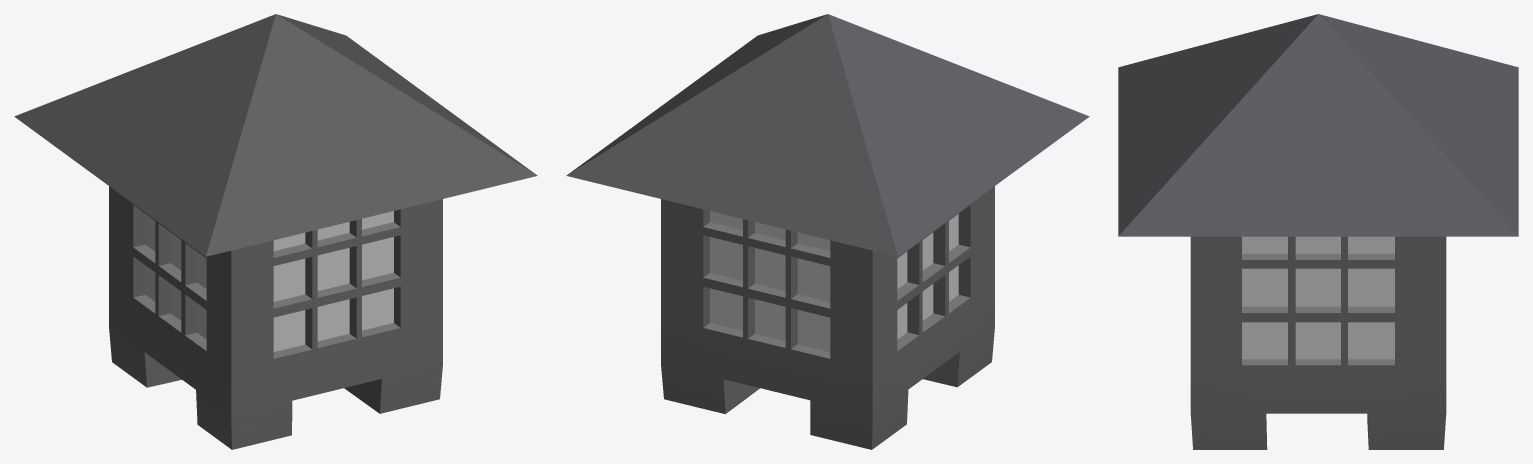
File: lantern1.fbx
3 views of the same model, side by side, from view 1: azimuth 30°, elevation 25°; view 2: azimuth 150°, elevation 25°; view 3: azimuth 270°, elevation 25° (orthographic). The views are drawn at different scales.
Parts seen in each view (by area): view 1: lantern1; view 2: lantern1; view 3: lantern1.
Boxes of the visible parts, x1,y1,x2,y2 form: lantern1: [14, 14, 537, 449]; lantern1: [566, 14, 1089, 449]; lantern1: [1118, 14, 1518, 449].
Size of the model in its own units: 139 by 146 by 139.
